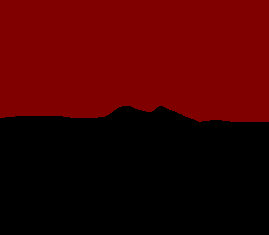Sky: (1, 1, 268, 121)
